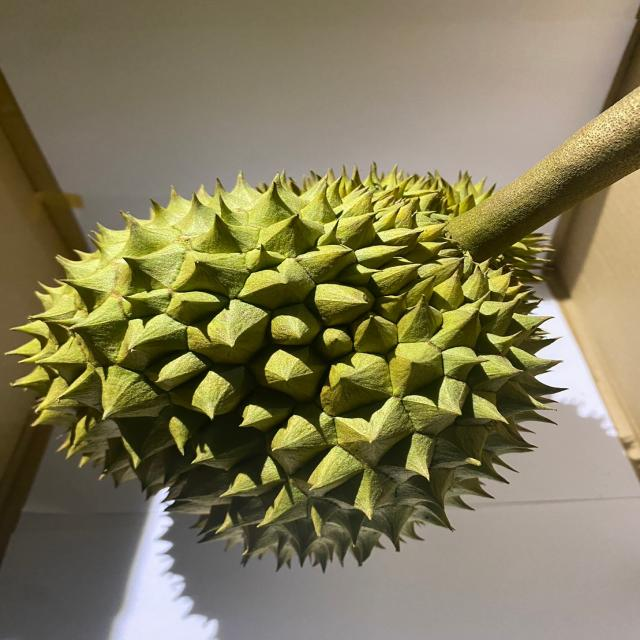immature: (0, 163, 572, 574)
